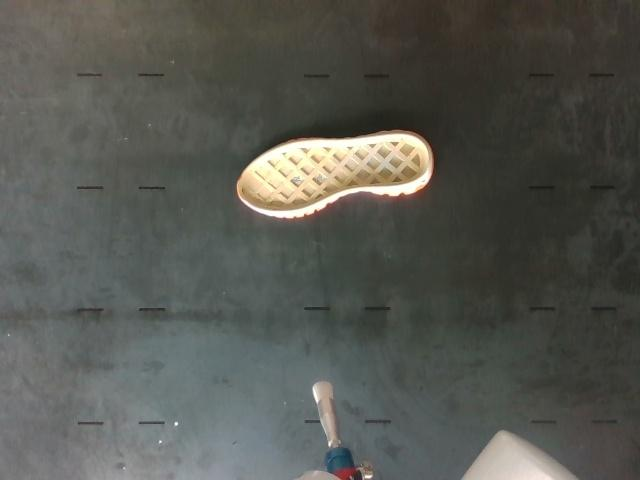shoes: (238, 133, 431, 212)
